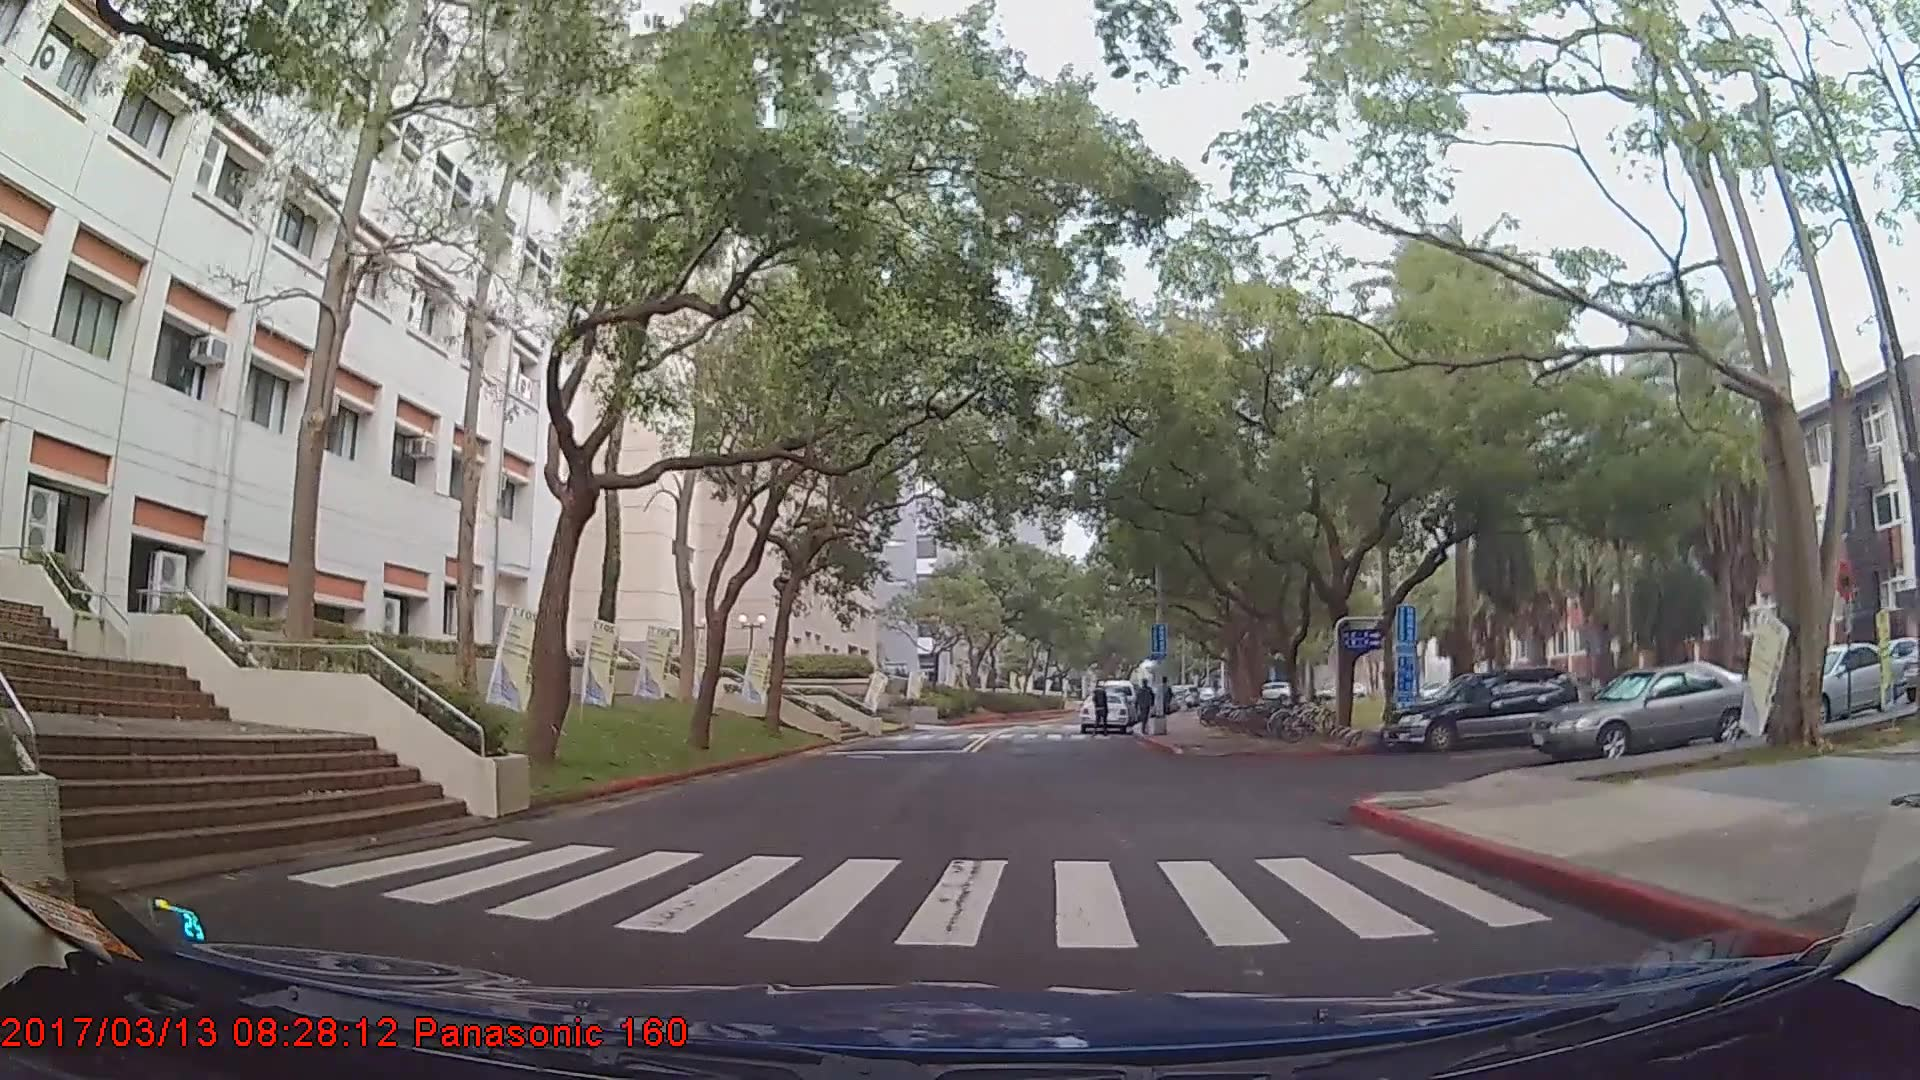pedestrian: (1134, 679, 1159, 731), (1090, 683, 1110, 737)
vehicle: (1532, 660, 1761, 765), (1385, 664, 1580, 749), (1767, 641, 1904, 723), (1076, 689, 1130, 732)
